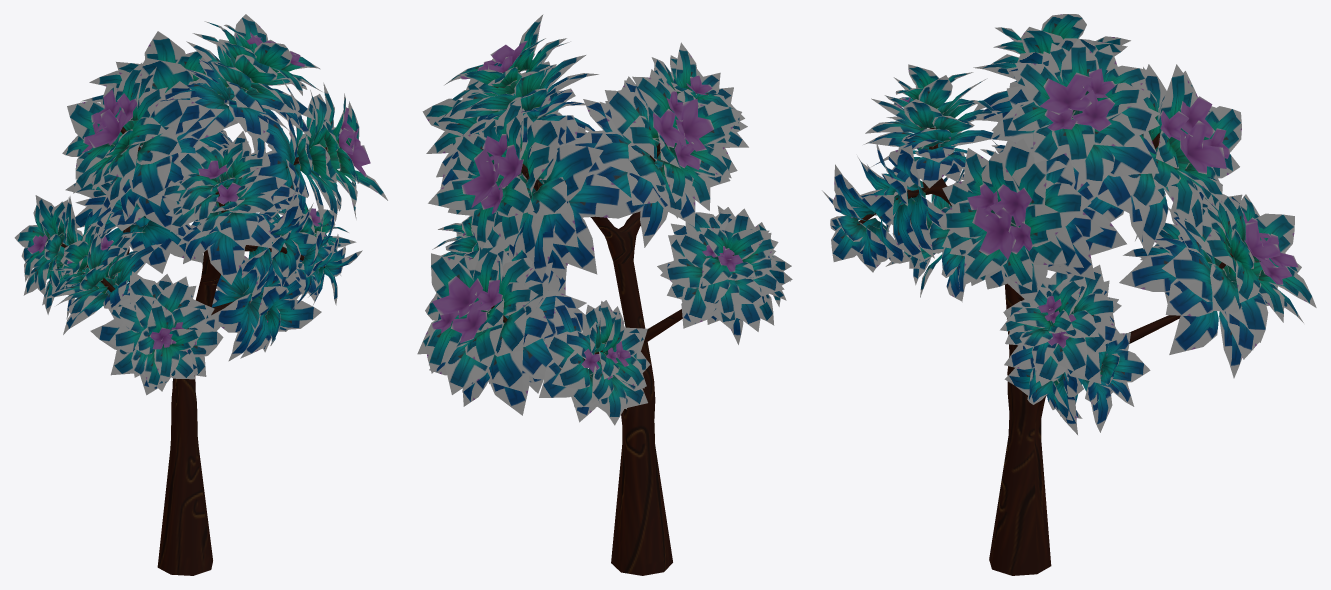
The model's file is Town_Trees_Blue_1.glb.
3 views of the same model, side by side, from view 1: azimuth 30°, elevation 25°; view 2: azimuth 150°, elevation 25°; view 3: azimuth 270°, elevation 25° (orthographic). The views are drawn at different scales.
Visible parts, largest first — view 1: Object_16.002; view 2: Object_16.002; view 3: Object_16.002.
Boxes of the visible parts, left/top/right/bottom form: Object_16.002: left=14, top=14, right=387, bottom=575; Object_16.002: left=417, top=14, right=792, bottom=575; Object_16.002: left=822, top=14, right=1316, bottom=575.
Size of the model in its own units: 35.37 by 53.89 by 43.31.
